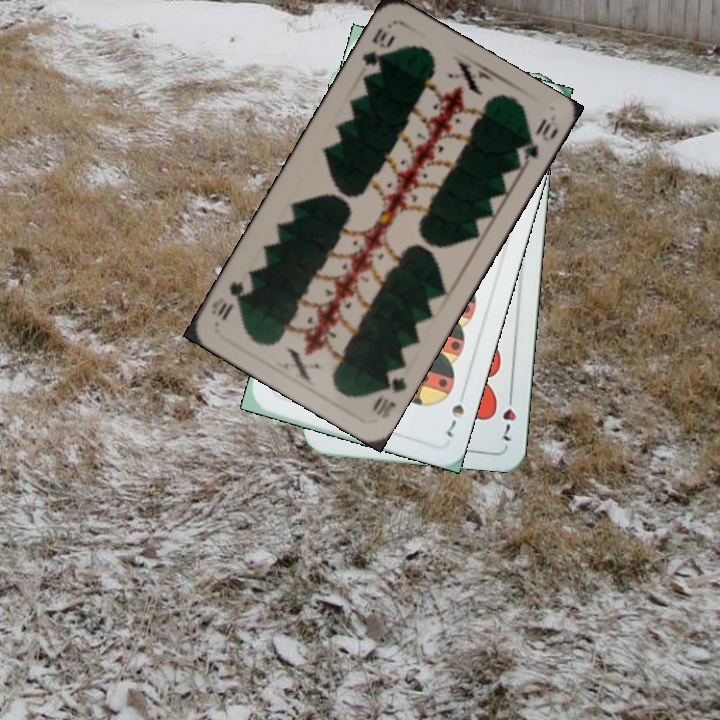G10: (367, 363, 409, 421), (358, 24, 398, 69)
H7: (498, 387, 518, 444)
S7: (442, 399, 467, 441)
